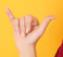clockwise: (3, 7, 57, 46)
